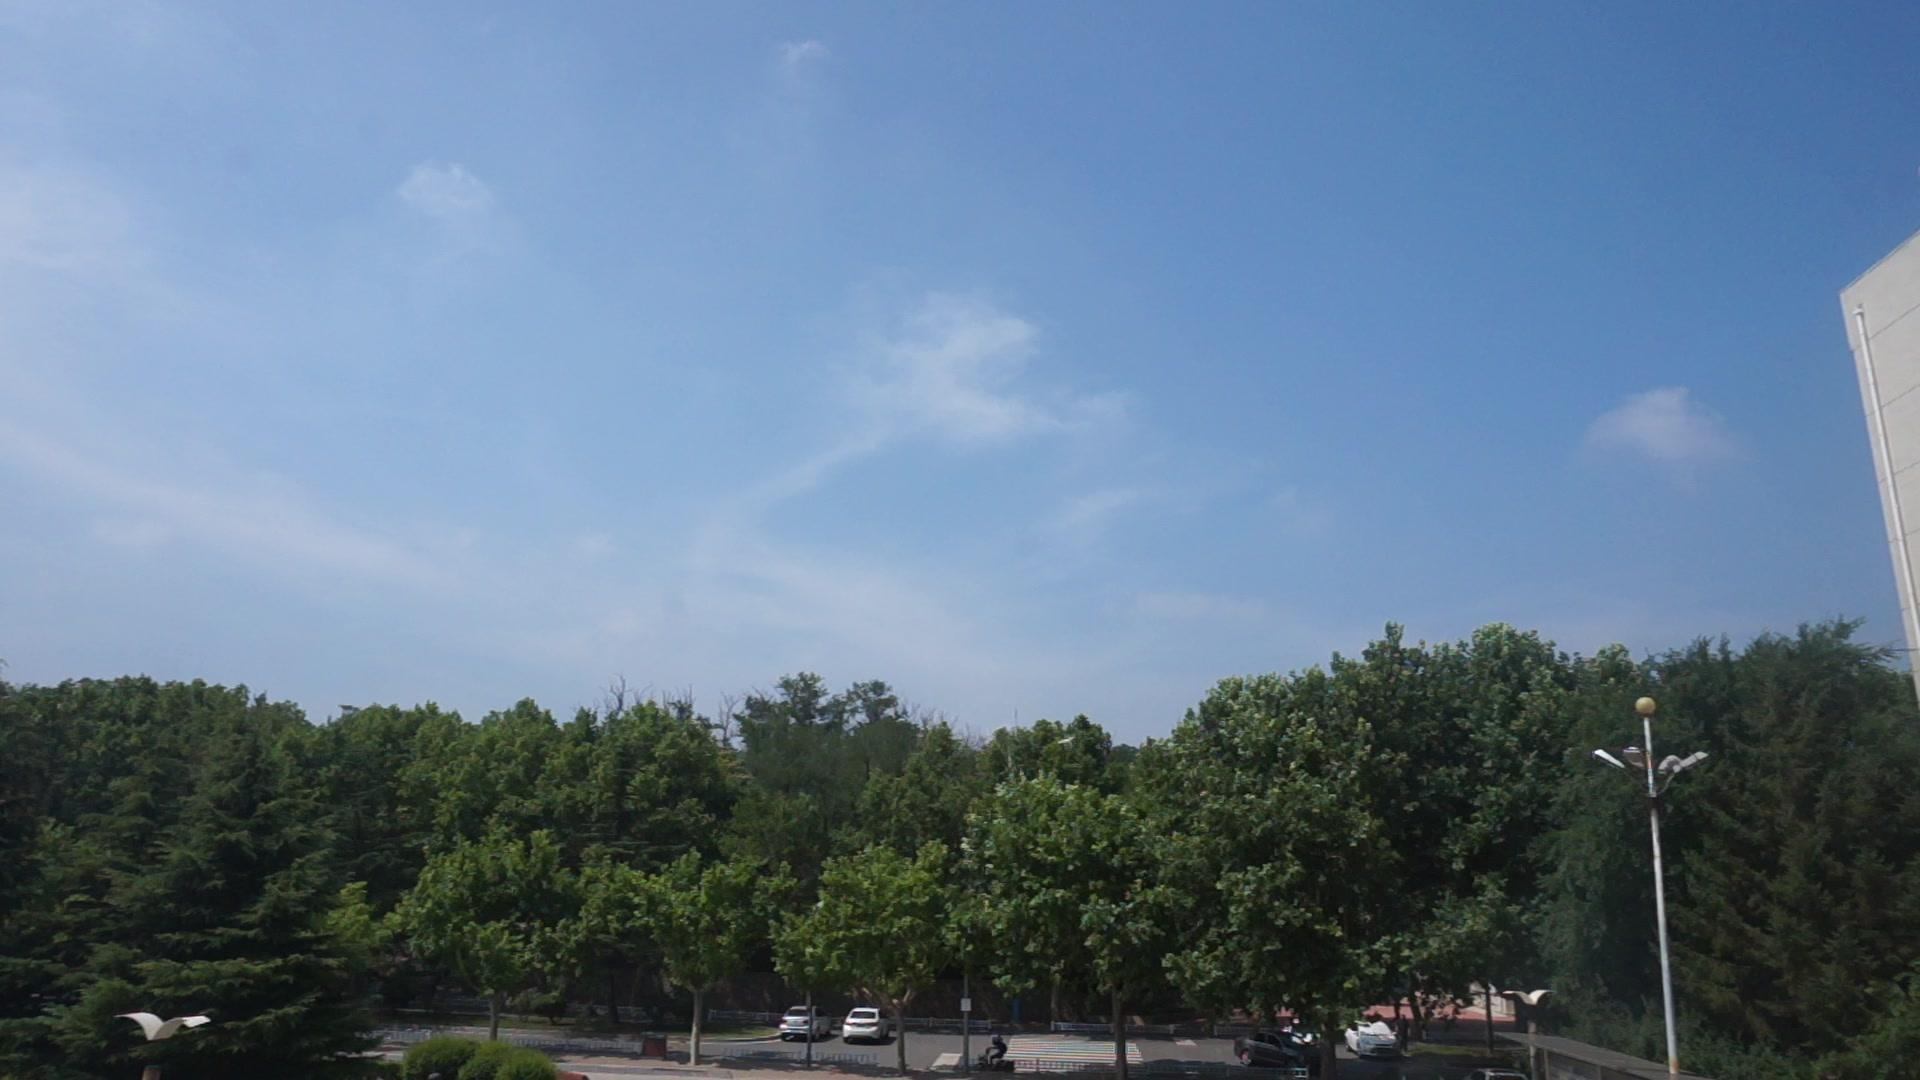UAV: (1058, 736, 1077, 748)
